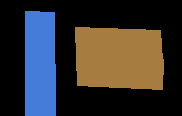parkingspot: (25, 11, 55, 116), (75, 27, 162, 60), (76, 56, 163, 89)
